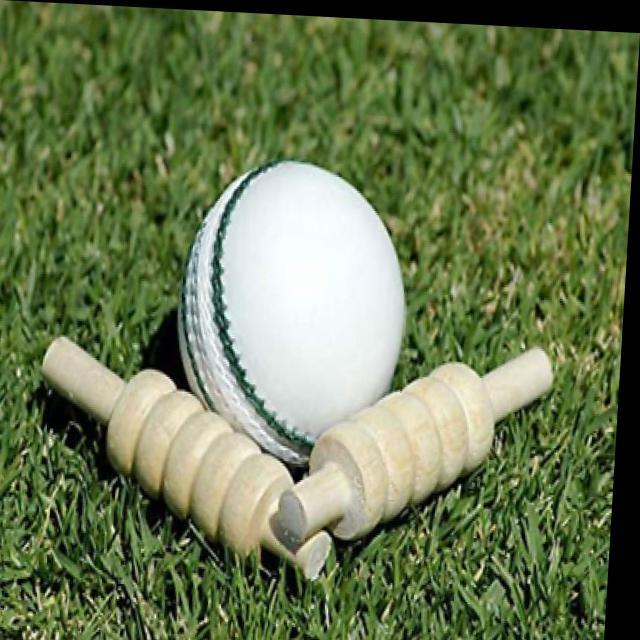cricket ball: (182, 157, 409, 462)
